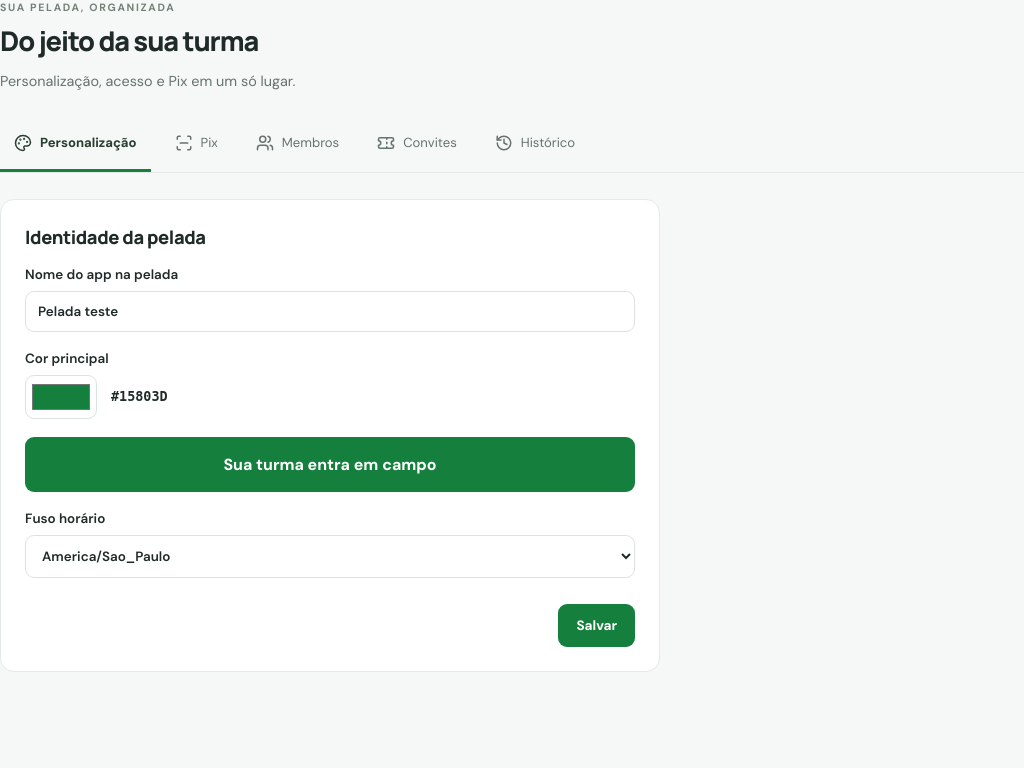
criar convite envia ttlDays e exibe o segredo somente na criação
The image size is (1024, 768).
Expected: the heading "Identidade da pelada" is shown, [25,224,206,250]
Click the button "Convites": [417, 146] box [363,121,471,172]
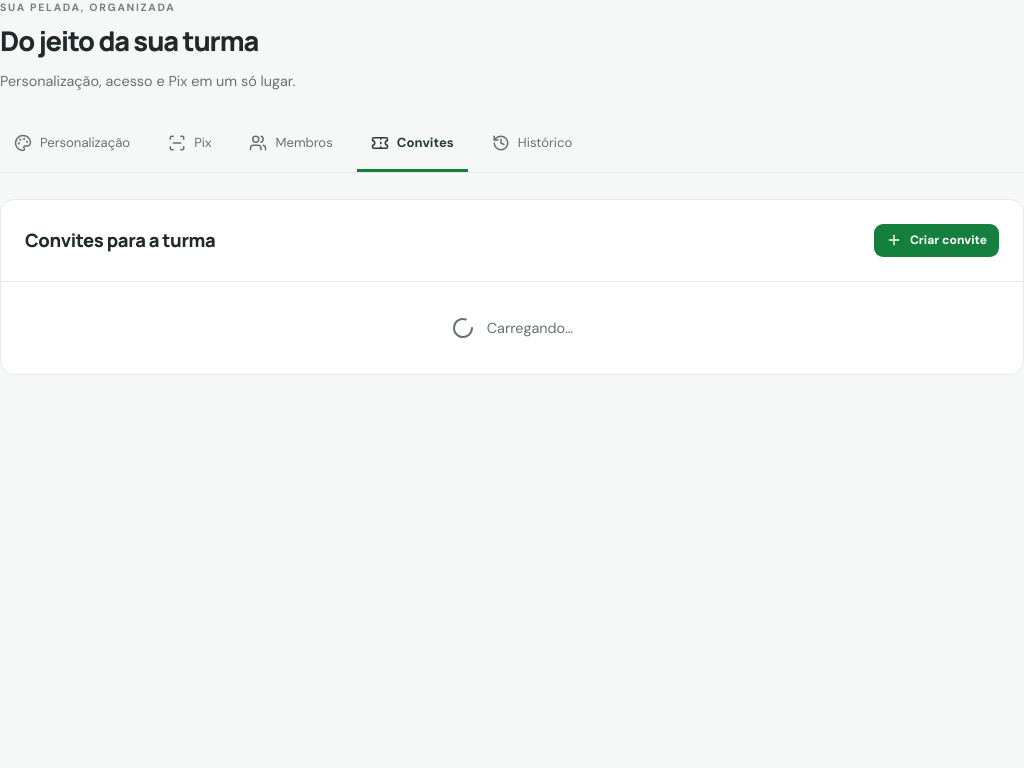
Click the button "Criar convite": [936, 240] box [874,224,999,257]
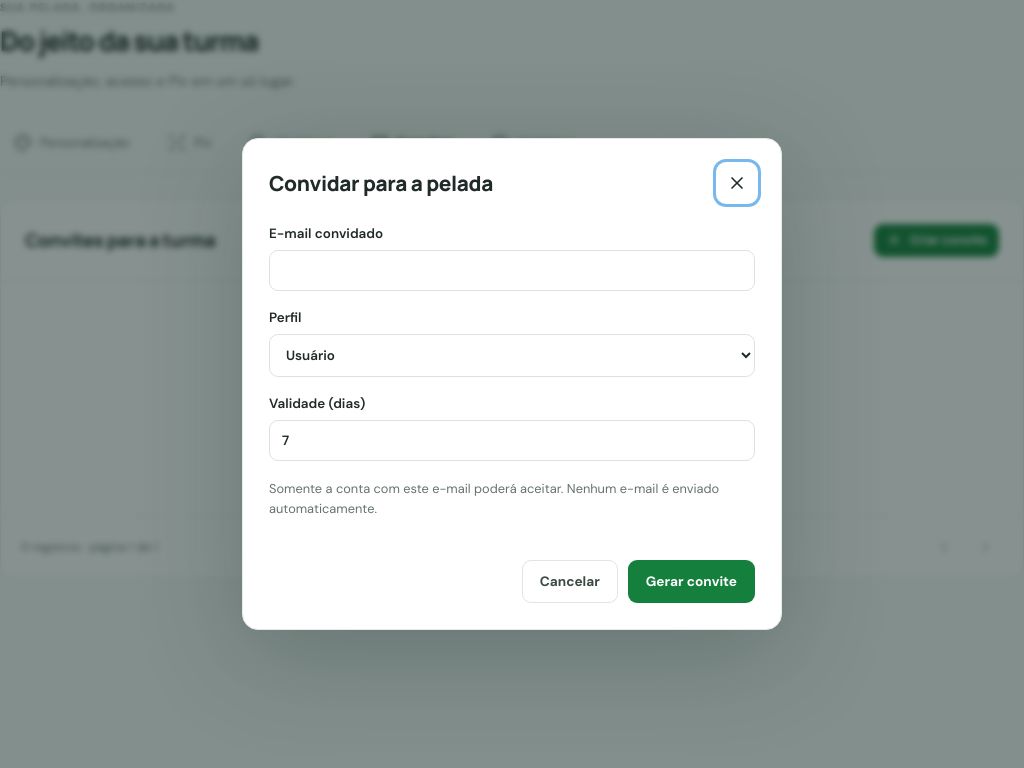
In the field labelled "E-mail convidado": [512, 270] box [269,250,755,291], type "novo@example.com"
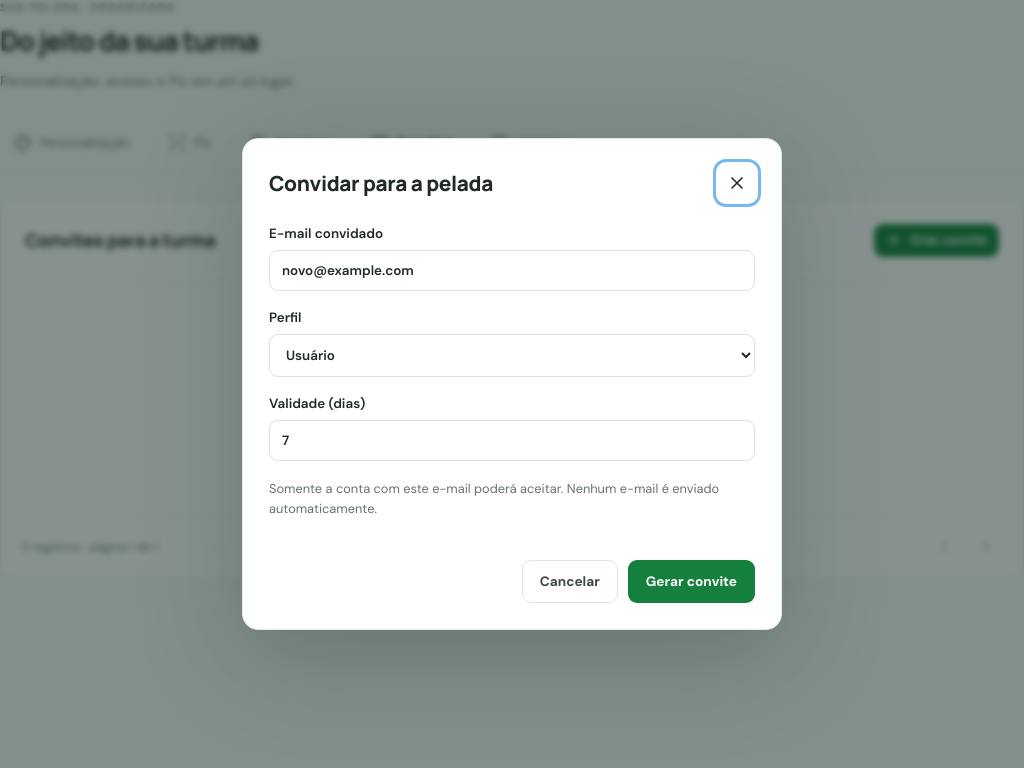
Replace the text in the number field labelled "Validade (dias)" with "3": [512, 440] box [269,420,755,461]
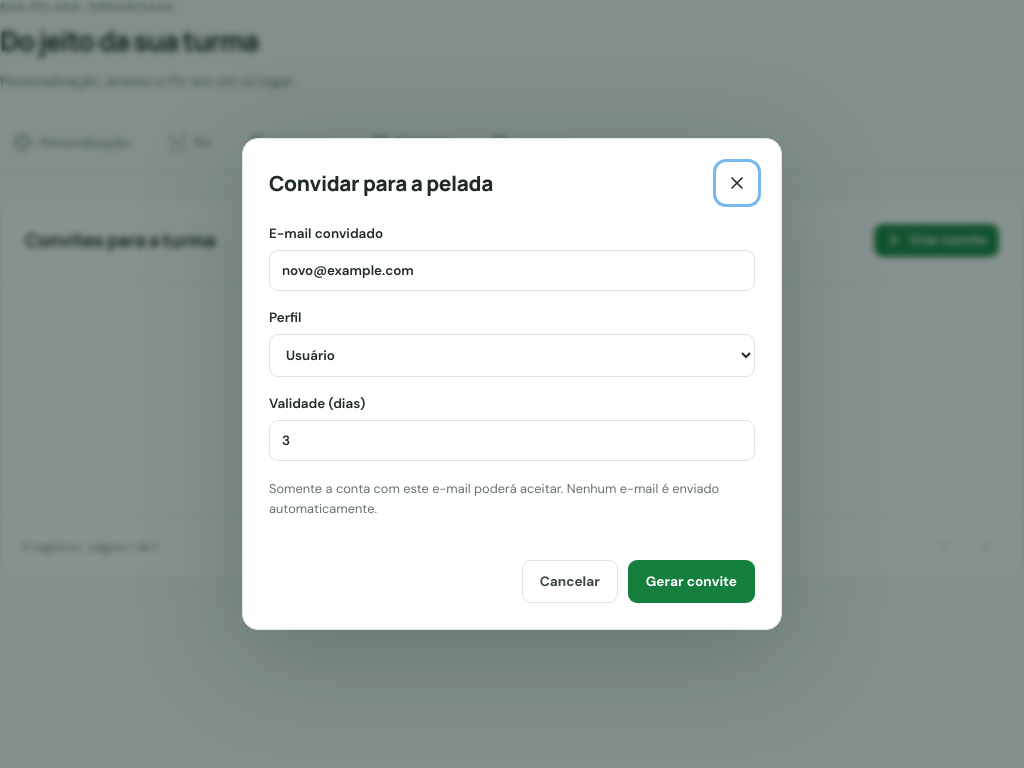
Click the button "Gerar convite": [691, 582] box [628,560,755,603]
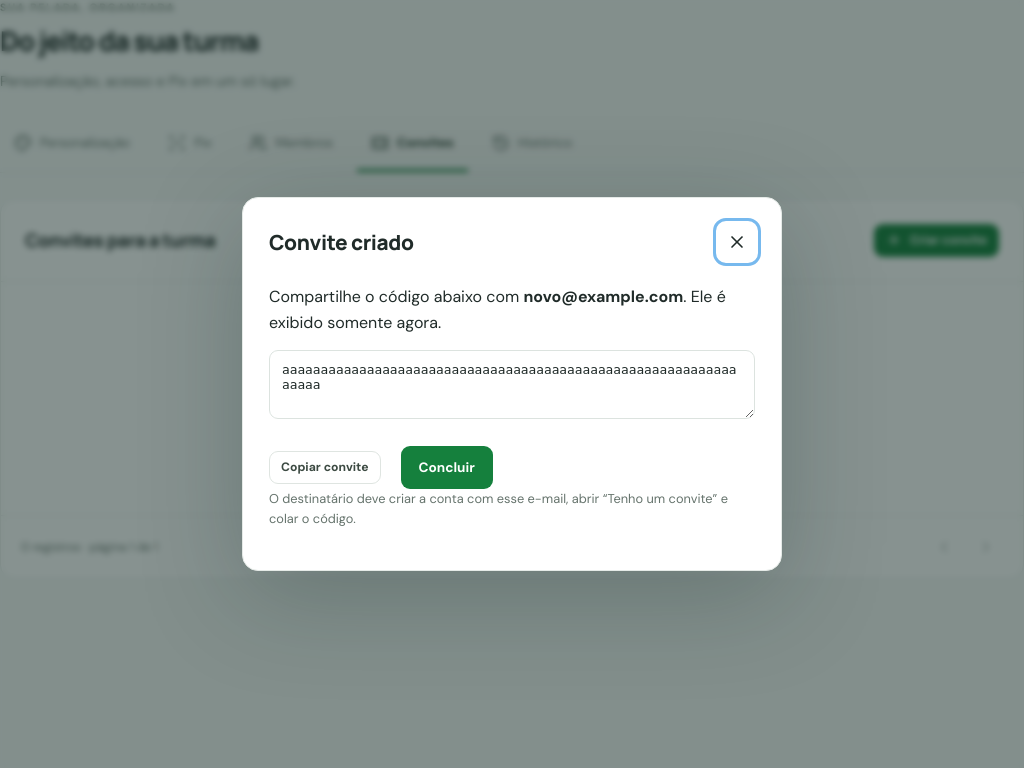
Now the heading "Convite criado" is shown, box [269,228,414,256]
